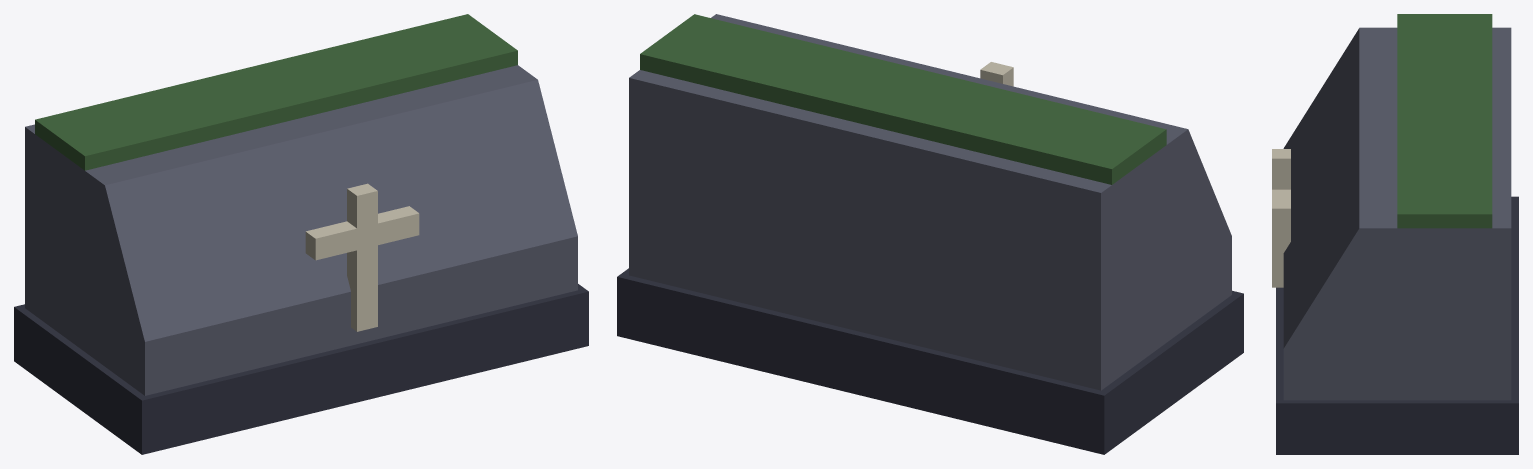
File: barrierA.glb
3 renders of one model, left to right at view 1: azimuth 30°, elevation 25°; view 2: azimuth 150°, elevation 25°; view 3: azimuth 270°, elevation 25°, orthographic. The views are drawn at different scales.
Parts seen in each view (by area): view 1: graveyard-barrierA; view 2: graveyard-barrierA; view 3: graveyard-barrierA.
Boxes of the visible parts, <box> form: graveyard-barrierA: <box>14,14,588,454</box>; graveyard-barrierA: <box>617,14,1243,454</box>; graveyard-barrierA: <box>1272,14,1518,454</box>.
Bounding box in the file's own units: 0.258 × 0.138 × 0.13.
